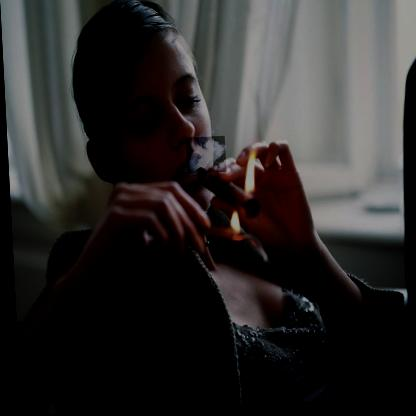smoke: (184, 138, 224, 176)
